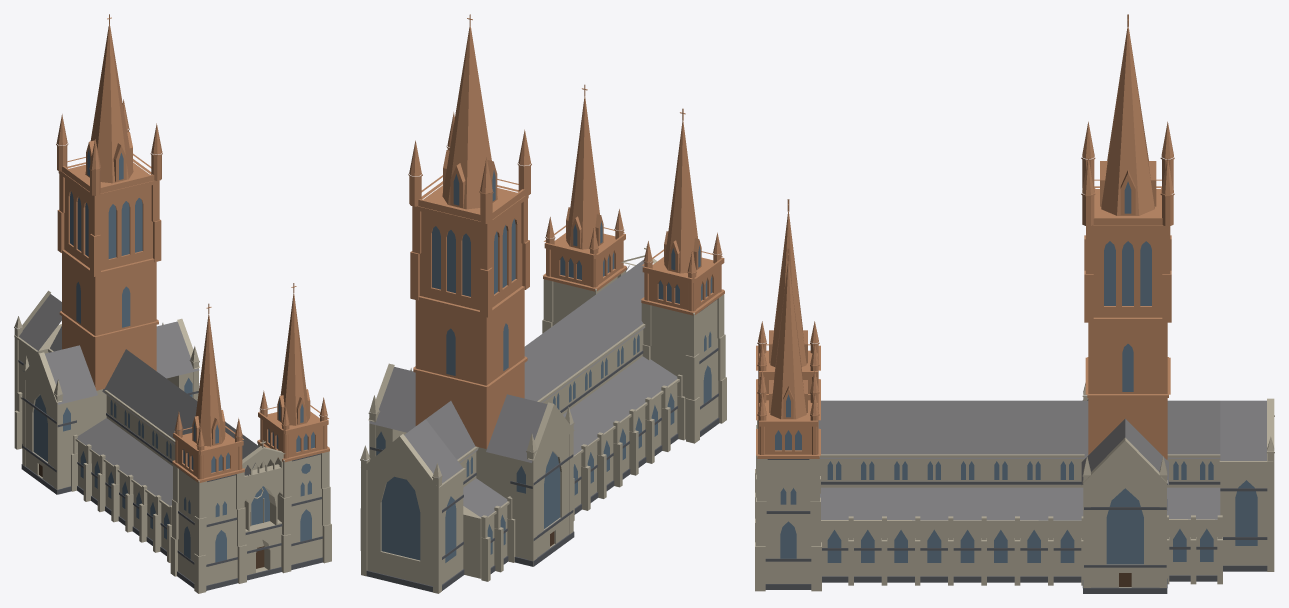
The model's file is melbourne-st-pauls-cathedral.glb.
3 views of the same model, side by side, from view 1: azimuth 30°, elevation 25°; view 2: azimuth 150°, elevation 25°; view 3: azimuth 270°, elevation 25° (orthographic). The views are drawn at different scales.
Parts seen in each view (by area): view 1: St Paul's Cathedral; view 2: St Paul's Cathedral; view 3: St Paul's Cathedral.
Boxes of the visible parts, x1,y1,x2,y2 form: St Paul's Cathedral: (14, 14, 331, 593); St Paul's Cathedral: (360, 14, 726, 593); St Paul's Cathedral: (755, 14, 1274, 593).
Size of the model in its own units: 31.7 by 95 by 83.2.
